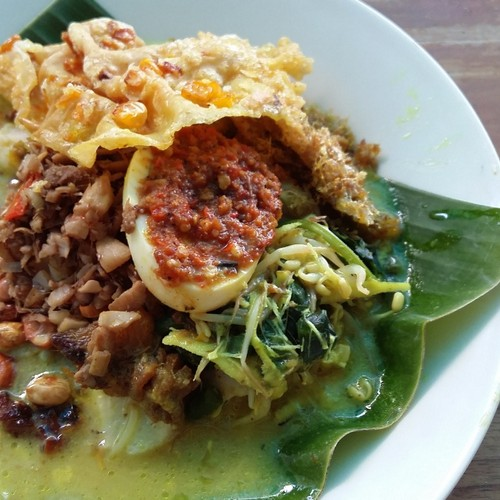tipat blayag: (9, 14, 417, 478)
